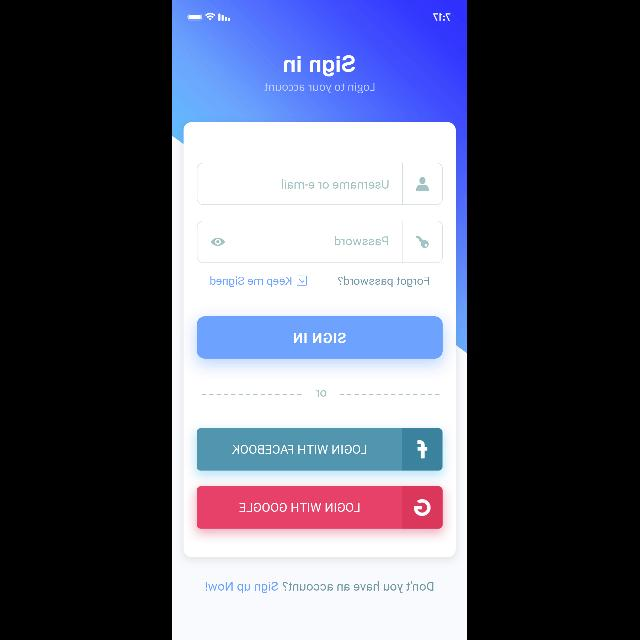checkbox: (298, 276, 308, 284)
icon: (416, 177, 430, 191), (211, 238, 225, 246)
image: (417, 236, 429, 248)
input: (198, 163, 444, 205), (197, 221, 443, 263)
text: (206, 581, 434, 593), (284, 56, 356, 76), (265, 82, 375, 94), (338, 276, 429, 288), (210, 276, 292, 288), (282, 180, 390, 188), (336, 237, 388, 246), (316, 390, 328, 398)
textbutton: (197, 317, 443, 359), (197, 429, 443, 471), (197, 487, 443, 529)
uppertaskbar: (187, 13, 451, 21)
